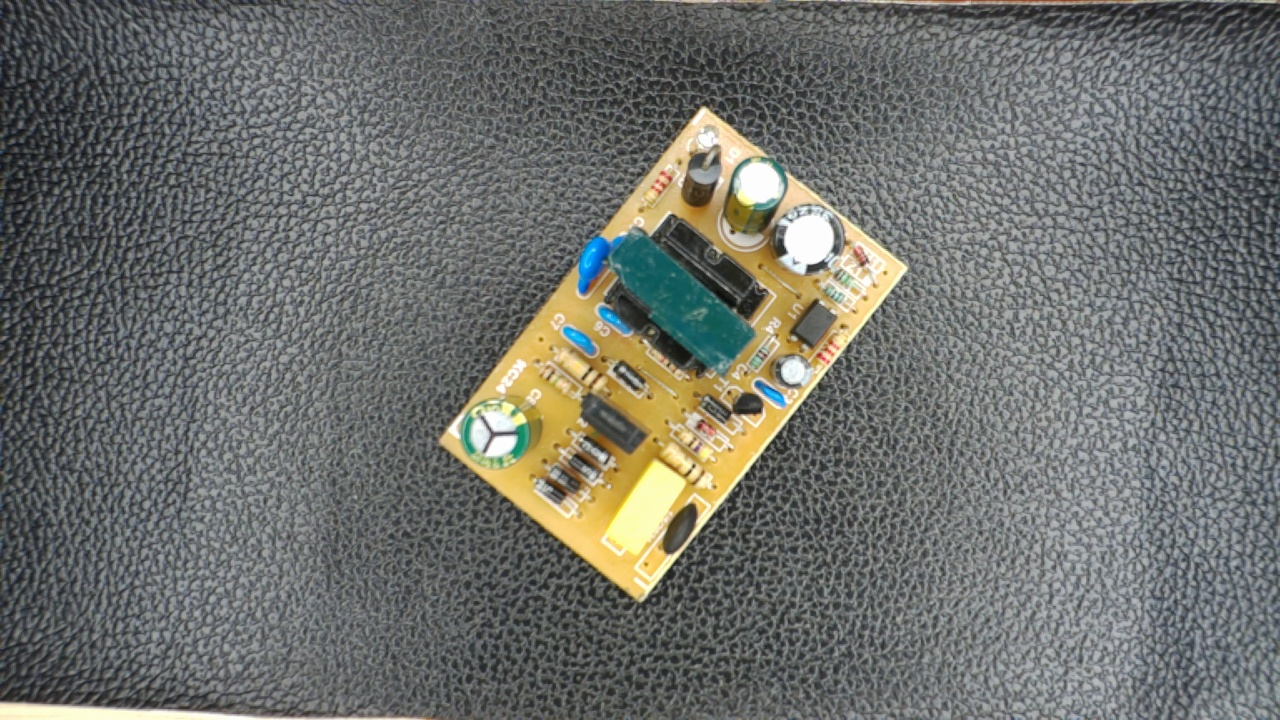fuse: (662, 495, 698, 558)
hv_capacitor: (459, 393, 540, 471)
mov: (569, 234, 611, 302)
optocoupler: (785, 294, 840, 359)
